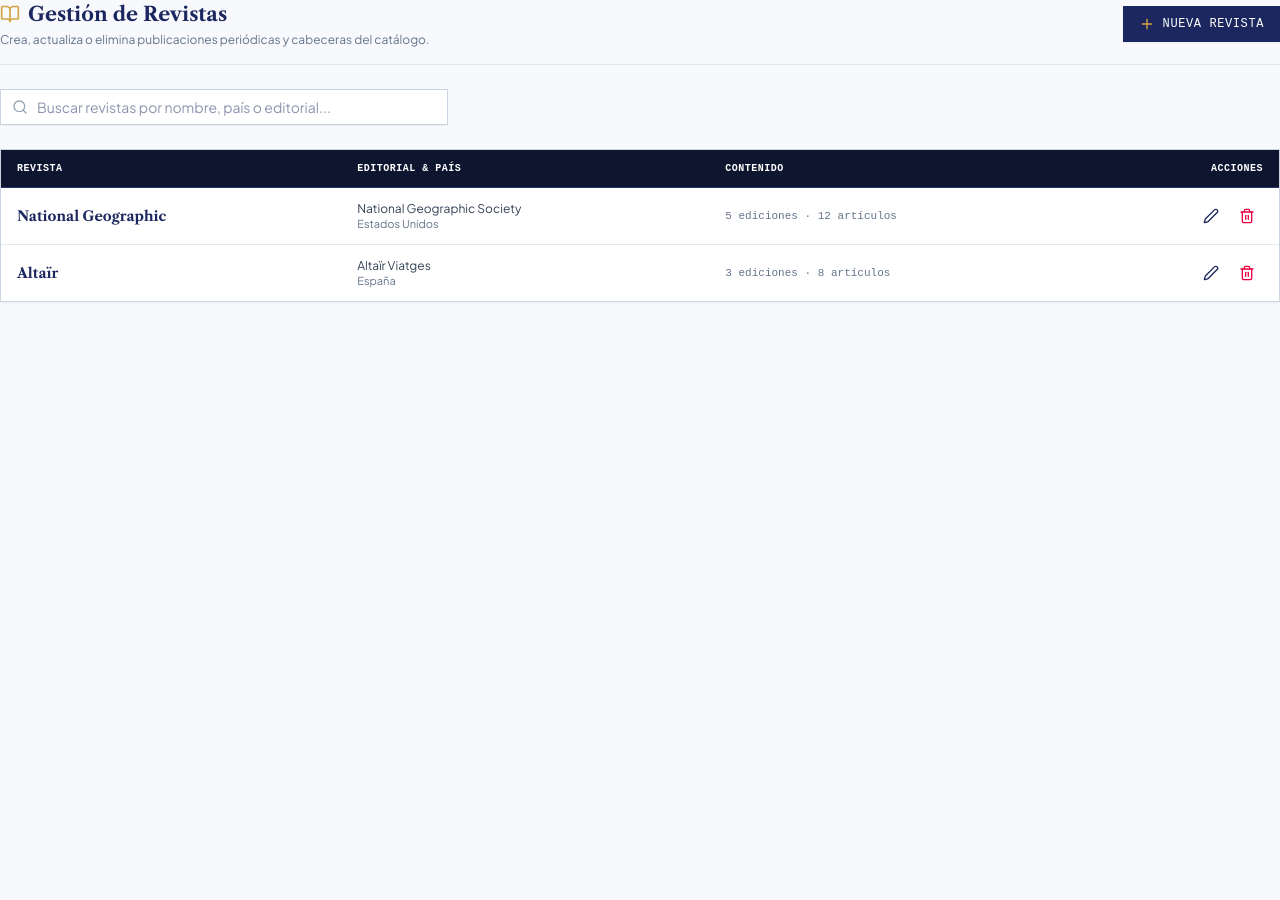
Scenario: MagazineManagementSection Component › opens edit modal with prefilled data
Click the button with test id "magazine-edit-btn-1" at (1211, 216), box [1195,200,1227,232]
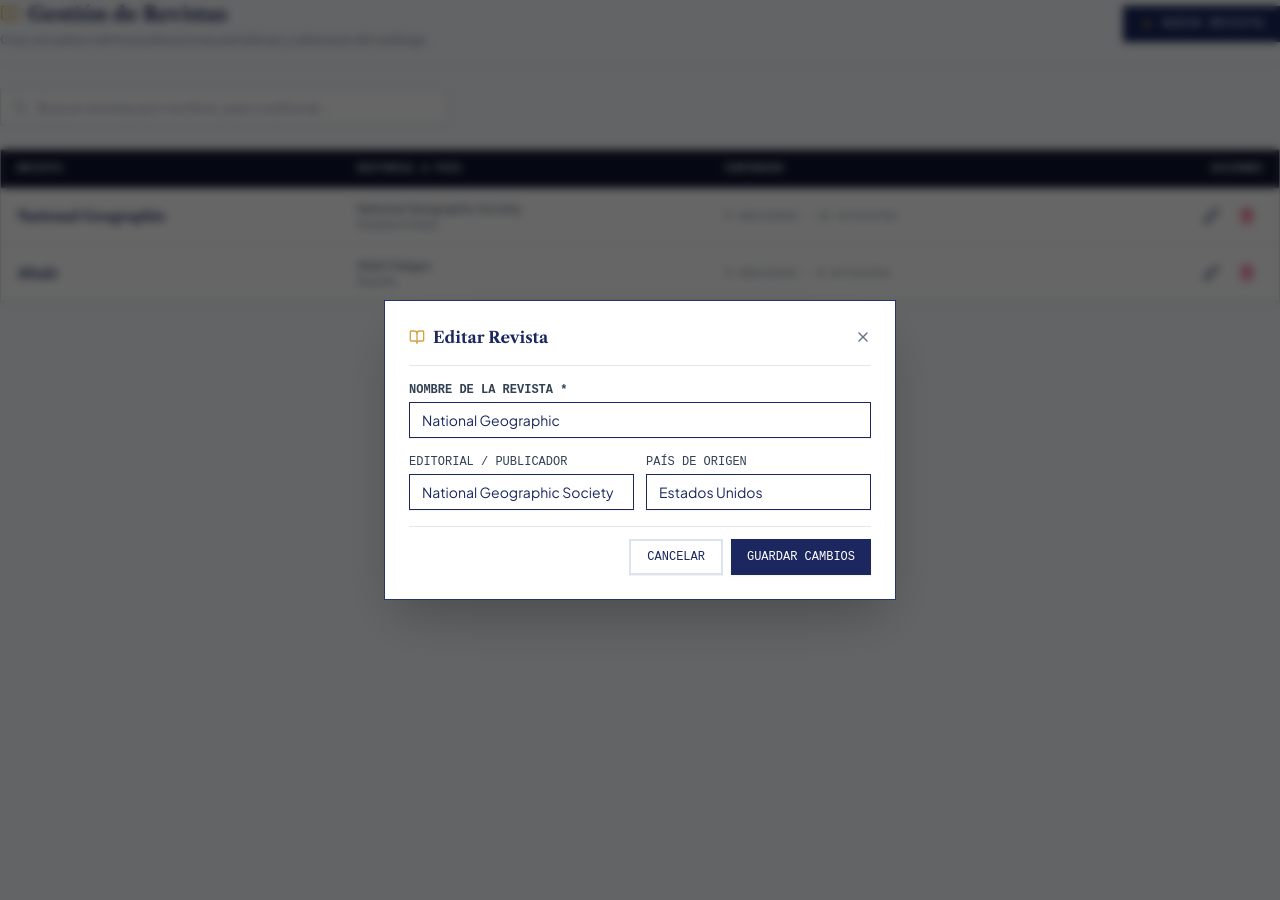
Now the element with test id "magazine-form-modal" is shown
Now the field with test id "magazine-form-name" holds "National Geographic", box [409,402,871,438]
Now the button with test id "magazine-submit-btn" reads "Guardar Cambios", box [731,539,871,575]
